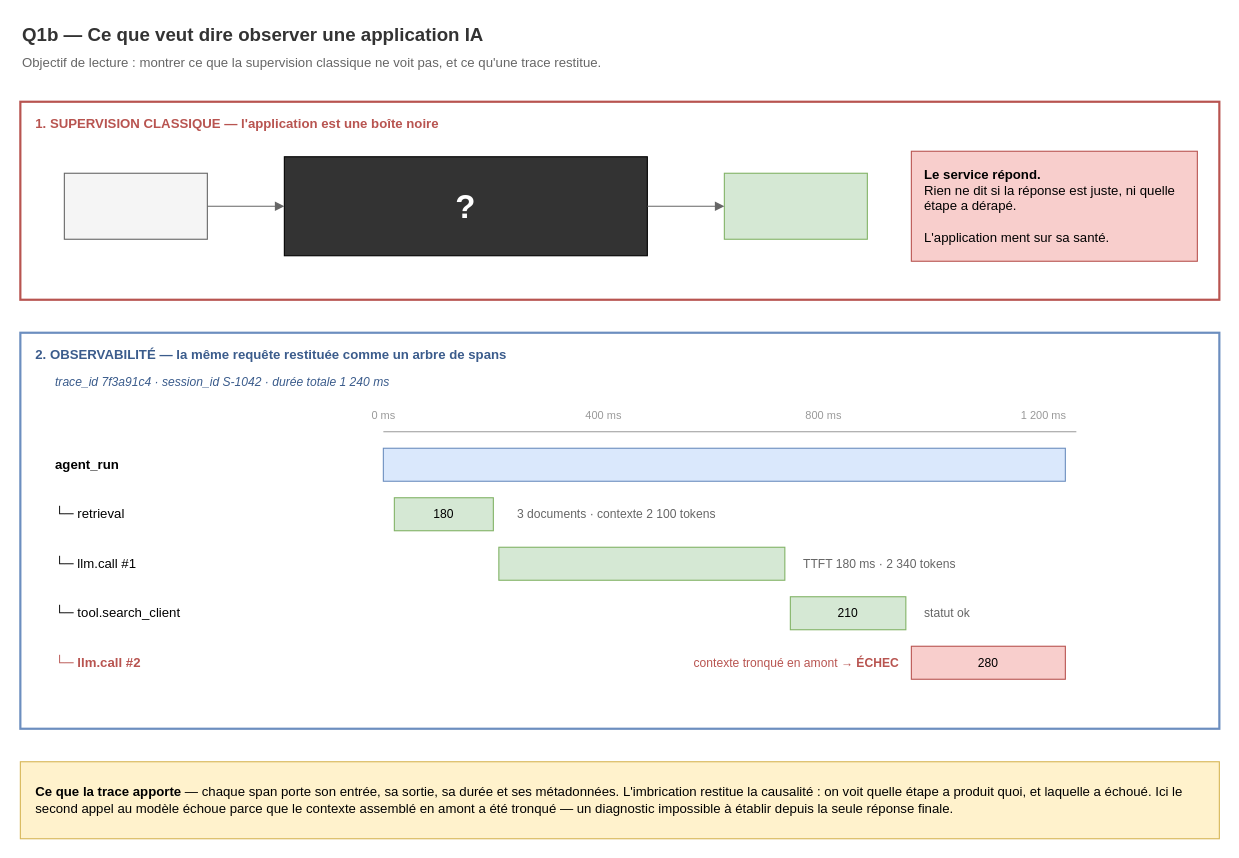
The diagram is 1239 pixels wide and 858 high, and some of its shapes have lost their labels. The shapes that lost their labels are listed below. From the top down, each one's centre as x and y in pixels, then its label:
At point (135, 205): "Requête".
At point (795, 205): "Réponse HTTP 200".
At point (723, 464): "1 240 ms".
At point (641, 563): "520 ms".
